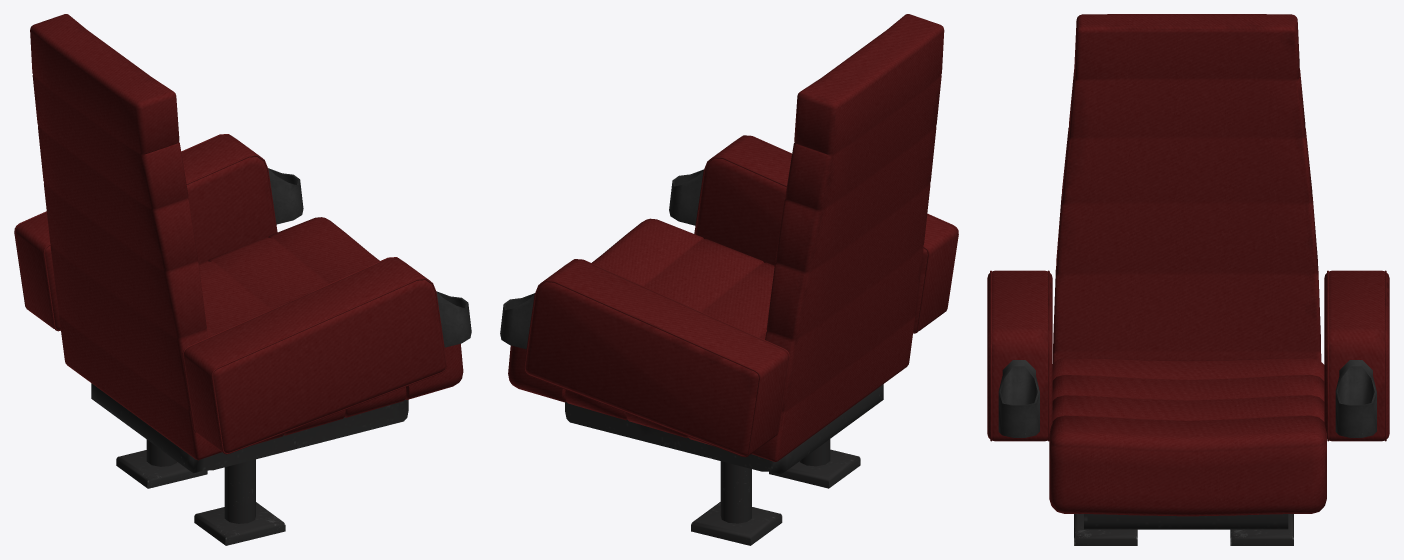
File: movie_theatre_chair.fbx
3 views of the same model, side by side, from view 1: azimuth 30°, elevation 25°; view 2: azimuth 150°, elevation 25°; view 3: azimuth 270°, elevation 25° (orthographic).
Parts seen in each view (by area): view 1: Cube.006; view 2: Cube.006; view 3: Cube.006.
Boxes of the visible parts, bbox=[...] form: Cube.006: bbox=[14, 14, 471, 545]; Cube.006: bbox=[500, 14, 958, 545]; Cube.006: bbox=[987, 14, 1389, 545].
Bounding box in the file's own units: 99.51 × 139 × 109.
